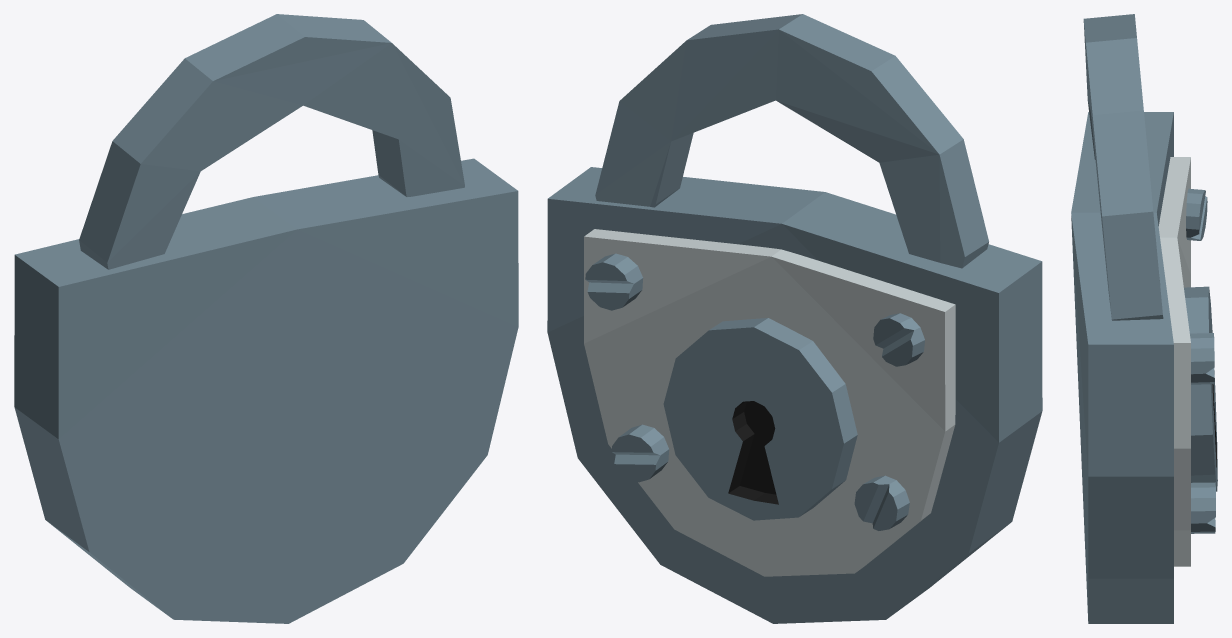
Rendered from lock.fbx.
3 views of the same model, side by side, from view 1: azimuth 30°, elevation 25°; view 2: azimuth 150°, elevation 25°; view 3: azimuth 270°, elevation 25° (orthographic). The views are drawn at different scales.
Parts seen in each view (by area): view 1: default; view 2: default; view 3: default.
Part boxes in pixels (x1=…): default: x1=14, y1=14, x2=518, y2=623; default: x1=547, y1=14, x2=1042, y2=623; default: x1=1071, y1=14, x2=1217, y2=623.
Size of the model in its own units: 0.3 by 0.3667 by 0.0856.
